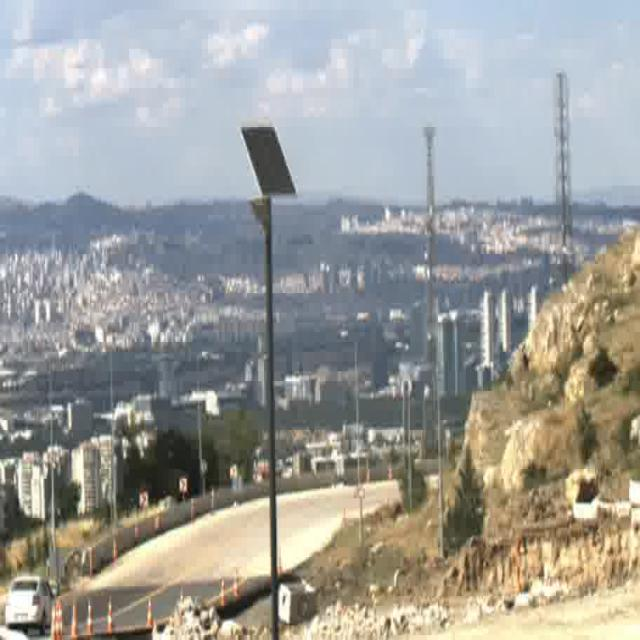Car: (5, 578, 57, 630)
